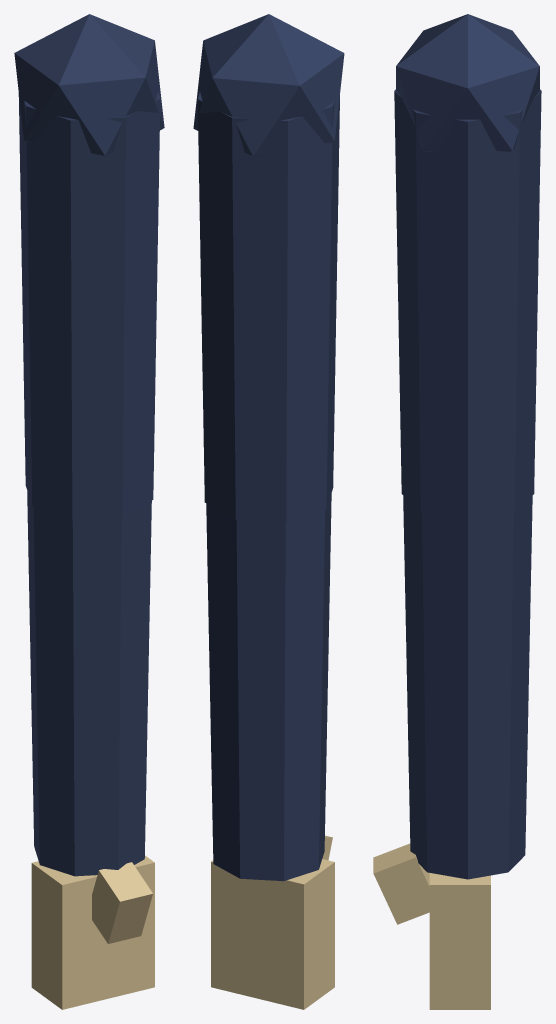
The model's file is PersonLighthouseArmR.obj.
3 views of the same model, side by side, from view 1: azimuth 30°, elevation 25°; view 2: azimuth 150°, elevation 25°; view 3: azimuth 270°, elevation 25° (orthographic).
Parts seen in each view (by area): view 1: PersonLighthouseArmR; view 2: PersonLighthouseArmR; view 3: PersonLighthouseArmR.
Part boxes in pixels (bbox=[...]): PersonLighthouseArmR: bbox=[14, 14, 164, 1009]; PersonLighthouseArmR: bbox=[193, 14, 344, 1009]; PersonLighthouseArmR: bbox=[373, 14, 541, 1009].
Bounding box in the file's own units: 0.0987 × 0.7002 × 0.1096.
